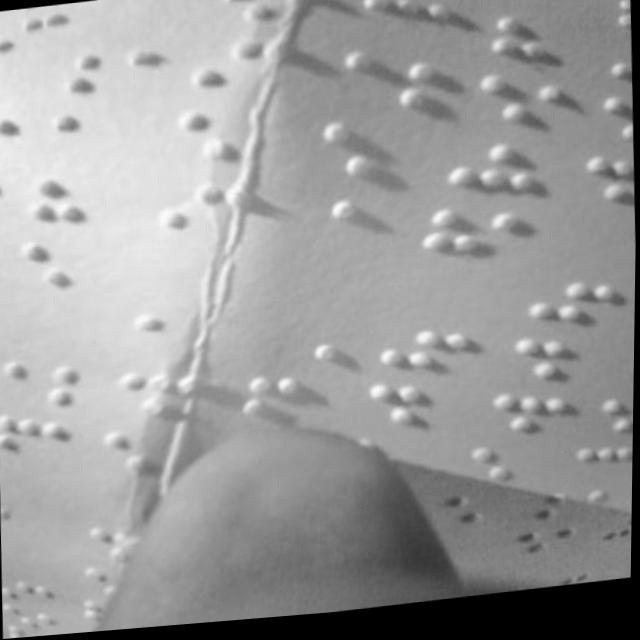braiile: (440, 150, 552, 215), (334, 52, 432, 126), (318, 122, 424, 190), (518, 276, 624, 342), (418, 209, 527, 273), (483, 16, 587, 82), (24, 172, 129, 235), (469, 75, 570, 140), (22, 236, 124, 297), (507, 338, 610, 397), (377, 325, 471, 389), (45, 106, 145, 165), (363, 382, 461, 441), (1, 355, 91, 419), (296, 202, 387, 262), (351, 0, 445, 57), (65, 47, 160, 103), (0, 410, 90, 466), (490, 396, 579, 452)
